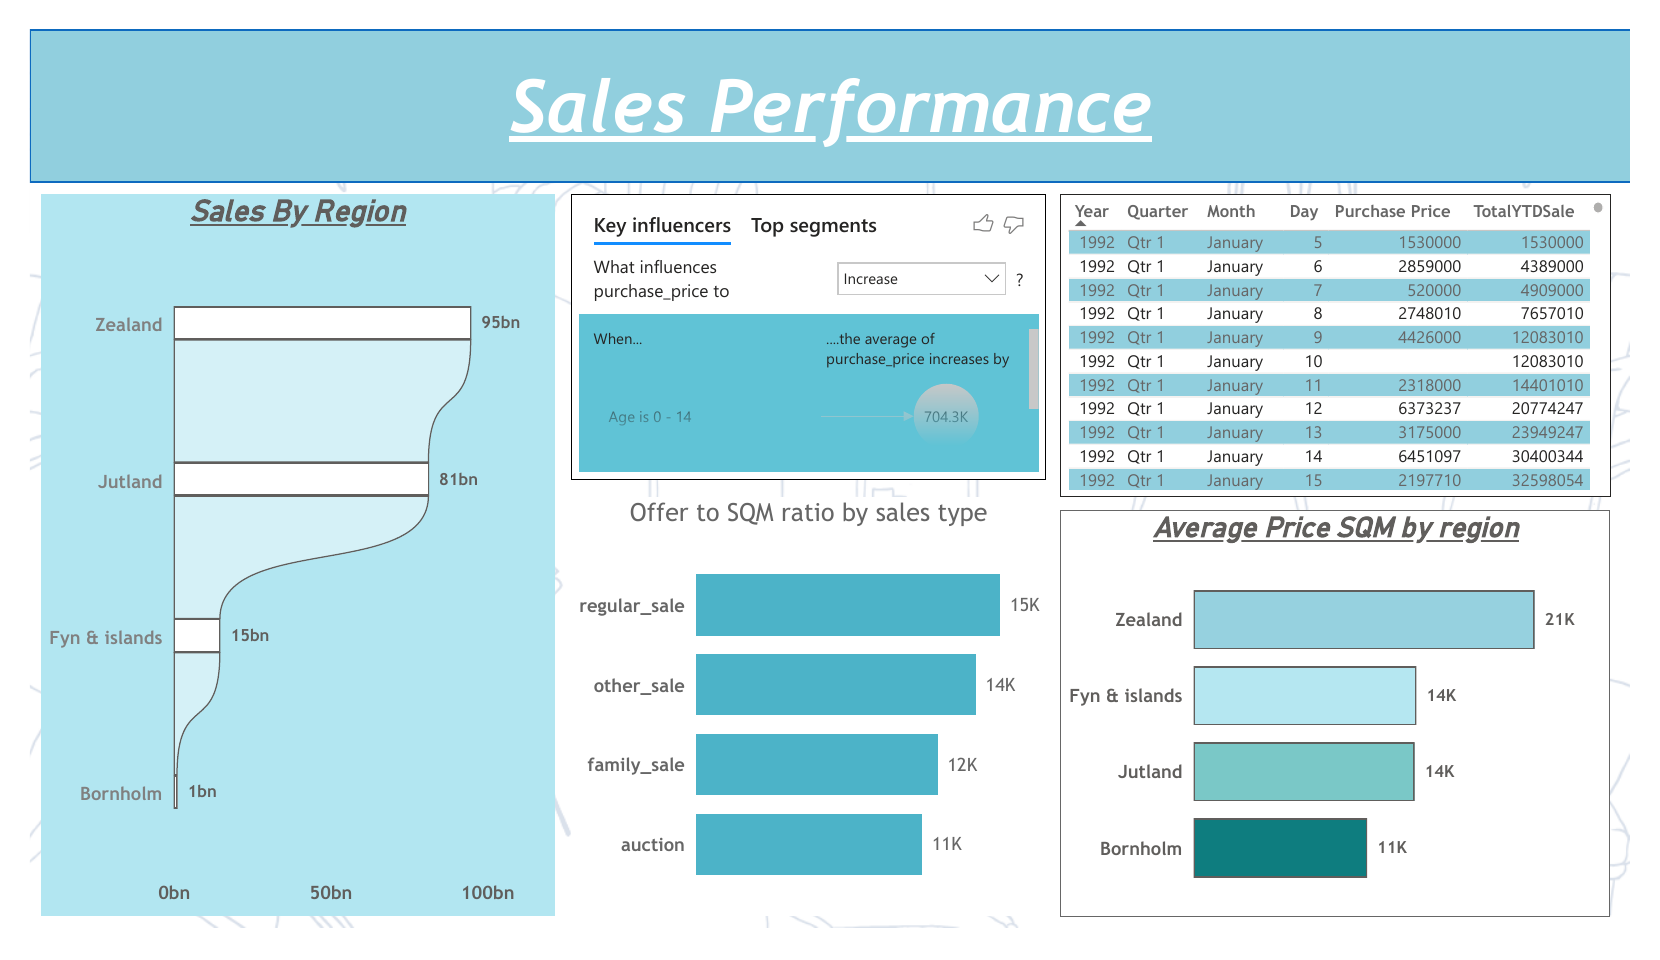

Layout of this report page (visuals, bound fields, positions):
{"tool":"powerbi","page":{"name":"Sales Performance","canvas":[1280,720],"ordinal":1},"visuals":[{"type":"shape","box":[0,0,1280.5,121.6],"z":0},{"type":"barChart","title":"Sales By Region","fields":{"Category":["Housing.region"],"Y":["Measure Table.Sales By Region"]},"box":[9.5,131.1,410.5,577.9],"z":1000},{"type":"tableEx","fields":{"Values":["Housing.date.Variation.Date Hierarchy.Year","Housing.date.Variation.Date Hierarchy.Quarter","Housing.date.Variation.Date Hierarchy.Month","Housing.date.Variation.Date Hierarchy.Day","Sum(Housing.purchase_price)","Measure Tbl.TotalYTDSale"]},"box":[824.2,131.1,440.5,243.2],"z":2000},{"type":"barChart","fields":{"Category":["Housing.region"],"Y":["Measure Tbl.Average Price SQM"]},"box":[823.7,384.5,440.8,325.1],"z":3000},{"type":"keyDriversVisual","fields":{"ExplainBy":["Housing.Age"],"Target":["Housing.purchase_price"]},"box":[432.6,131.1,380.5,229],"z":4000},{"type":"barChart","title":"Offer to SQM ratio by sales type","fields":{"Category":["Housing.sales_type"],"Y":["Measure Tbl.Offer to SQM Ratio"]},"box":[432.6,374.2,380.5,334.7],"z":5000}]}

Visuals, with their boxes in screenshot pixels (x1, y1, x2, y2), scaled from the page's 1280x720 canvas onto the 1660x960 screenshot:
shape: <box>0,0,1659,162</box>
"Sales By Region" barChart: <box>12,175,545,945</box>
tableEx - Housing.date.Variation.Date Hierarchy.Year x Housing.date.Variation.Date Hierarchy.Quarter: <box>1069,175,1640,499</box>
barChart - Housing.region x Measure Tbl.Average Price SQM: <box>1068,513,1640,946</box>
keyDriversVisual - Housing.Age x Housing.purchase_price: <box>561,175,1054,480</box>
"Offer to SQM ratio by sales type" barChart: <box>561,499,1054,945</box>
